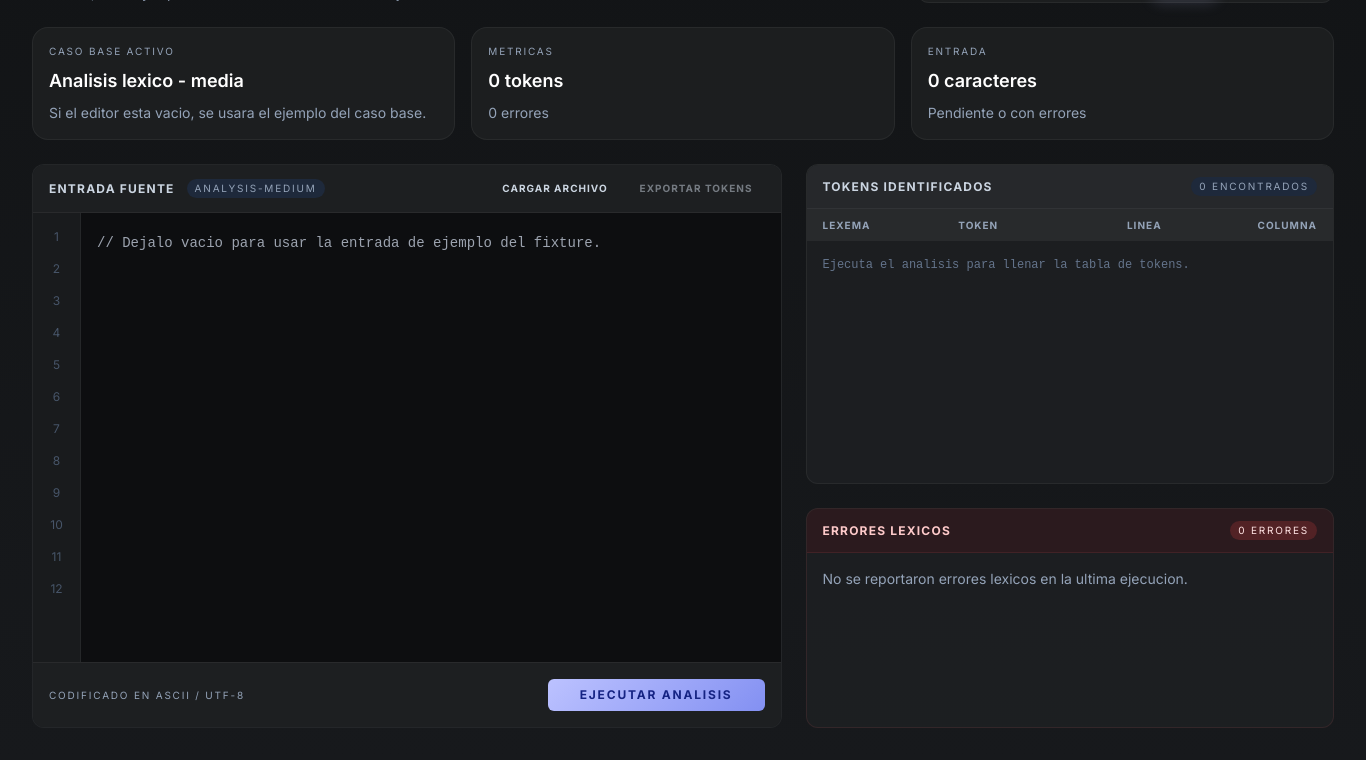
Scenario: AnalysisTool › renders tokens after a successful analysis run
(page scrolled)
Click the button "Ejecutar analisis".
click(656, 695)  # box left=548, top=679, right=764, bottom=711
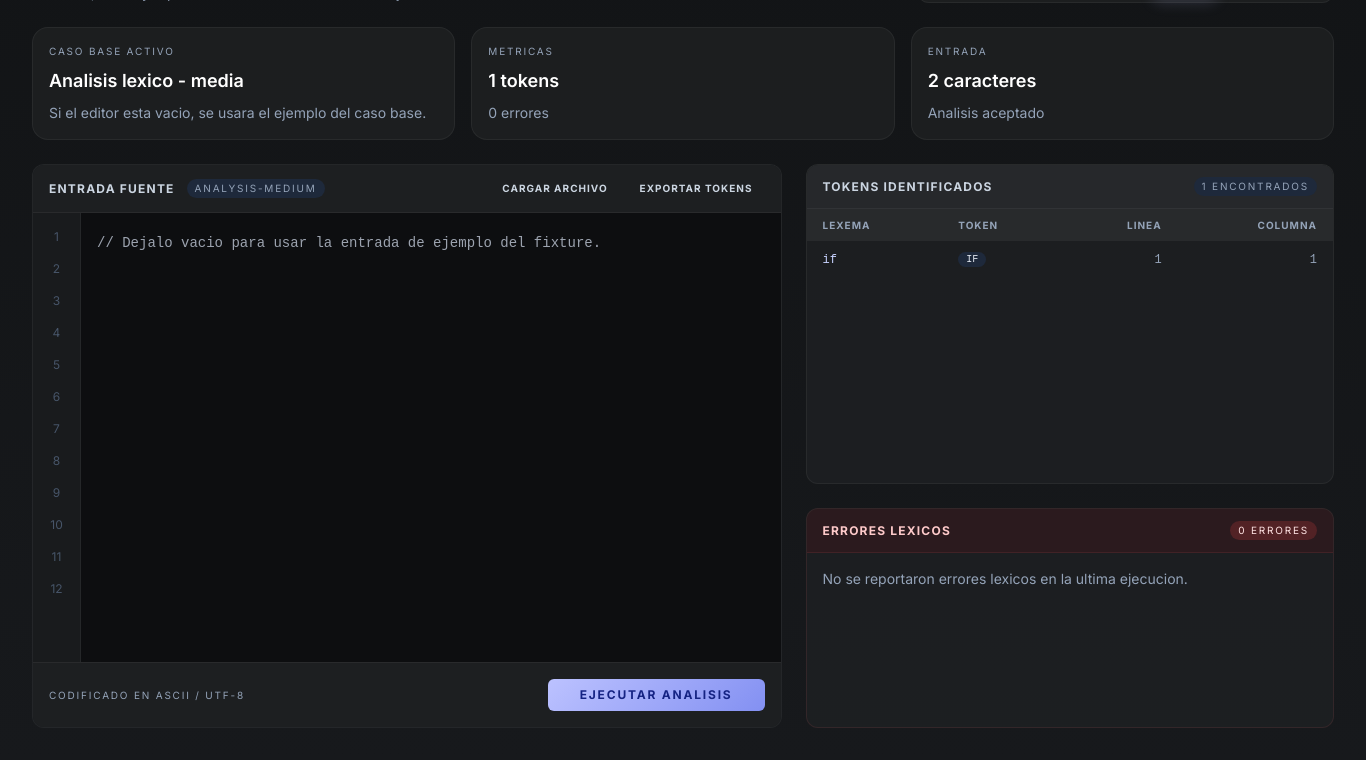
Check: the text "No se reportaron errores lexicos en la ultima ejecucion." is shown, box left=822, top=570, right=1188, bottom=587
Check: the text "IF" is shown, box left=958, top=252, right=986, bottom=267
Check: the text "if" is shown, box left=806, top=241, right=942, bottom=278
